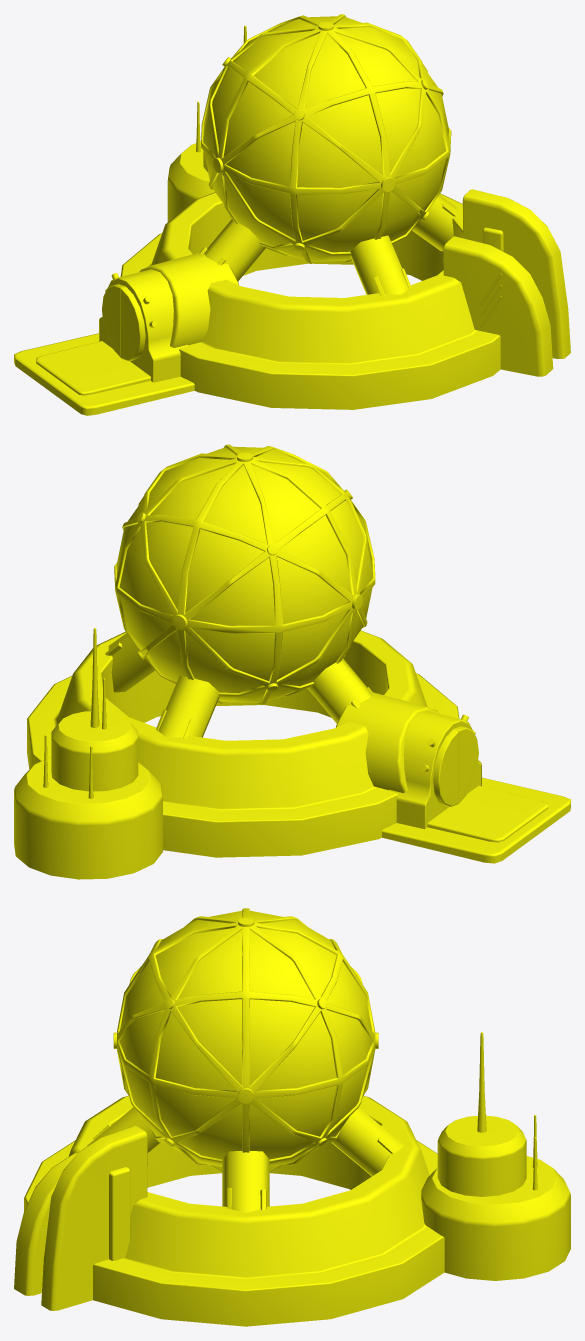
Rendered from research_center.glb.
3 views of the same model, one above another, from view 1: azimuth 30°, elevation 25°; view 2: azimuth 150°, elevation 25°; view 3: azimuth 270°, elevation 25° (orthographic). The views are drawn at different scales.
Visible parts, largest first — view 1: Research_center; view 2: Research_center; view 3: Research_center.
Boxes of the visible parts, left/top/right/bottom form: Research_center: left=14, top=14, right=570, bottom=415; Research_center: left=14, top=444, right=570, bottom=879; Research_center: left=14, top=908, right=570, bottom=1326.
Bounding box in the file's own units: 15.51 × 9.53 × 15.42.
Materials: 1 (1 with a texture image).
